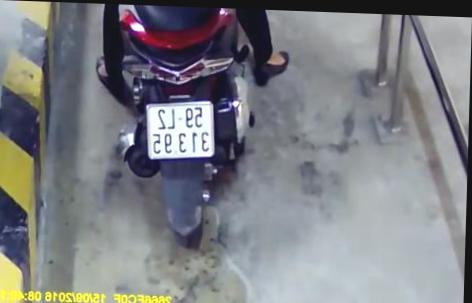License_Plate: (141, 95, 222, 169)
